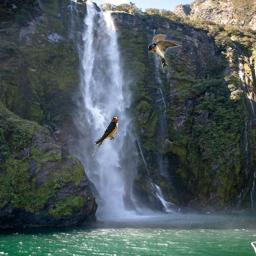Swallow: (148, 34, 182, 74), (92, 116, 118, 156)
